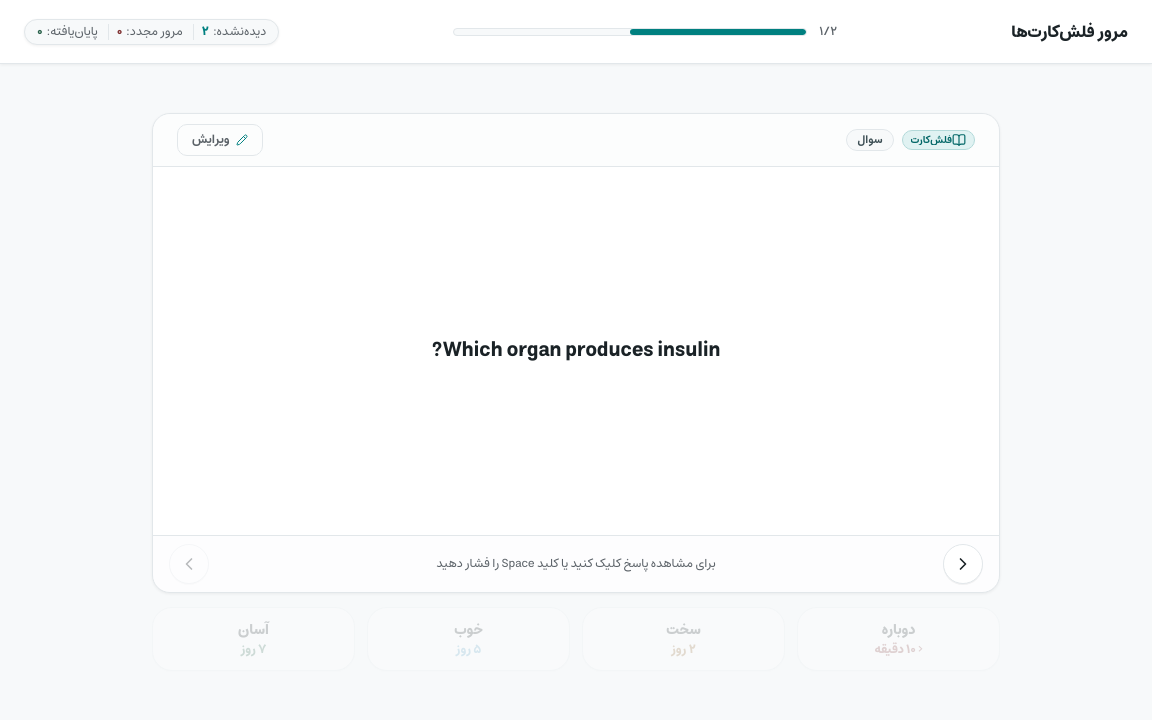
Test: PR6-9C UX Hardening: Flashcards › disables keys and shows rating spinners on submit, delaying card change until success
Expected: the text "Which organ produces insulin?" is shown, [432,333,720,368]
// Flip card
Click the button with aria-label "سوال فلش‌کارت" at (576, 353), box [152,113,1000,593]
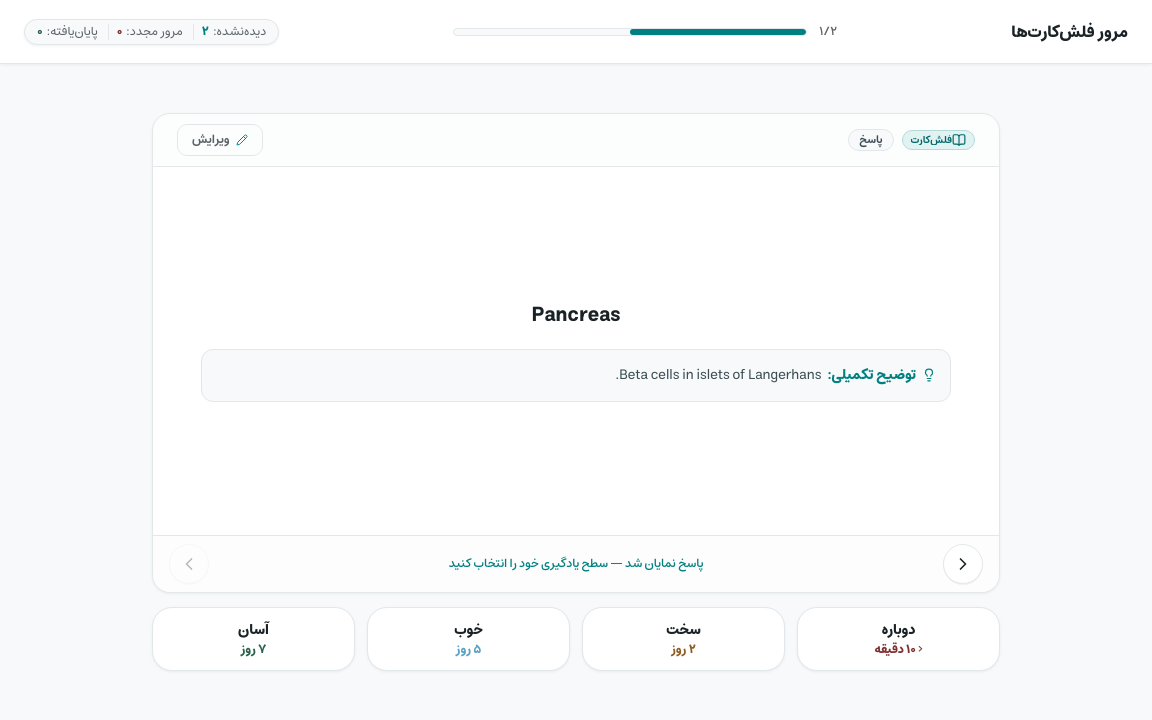
Result: the text "Pancreas" is shown at [532,298,620,333]
// Select rating: Good
Click the button "خوب ۵ روز" at (468, 639), box [367,607,570,671]
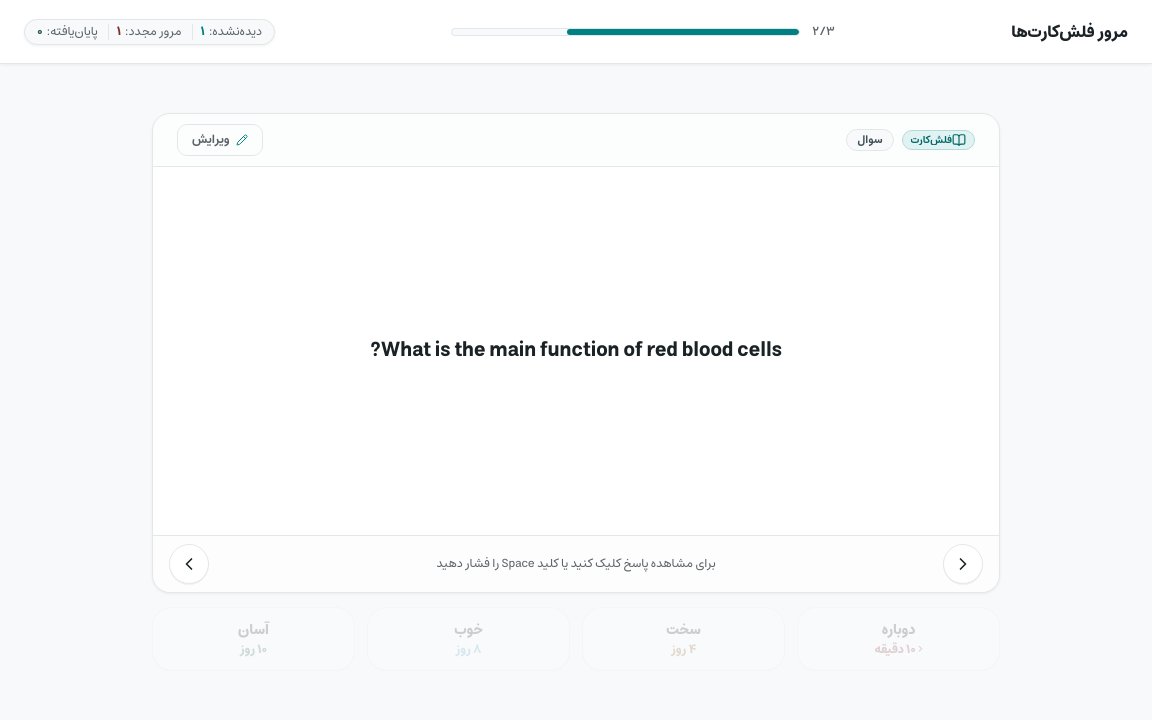
Result: the button "خوب ۸ روز" is disabled at [367,607,570,671]
Result: the text "What is the main function of red blood cells?" is shown at [370,333,782,368]
